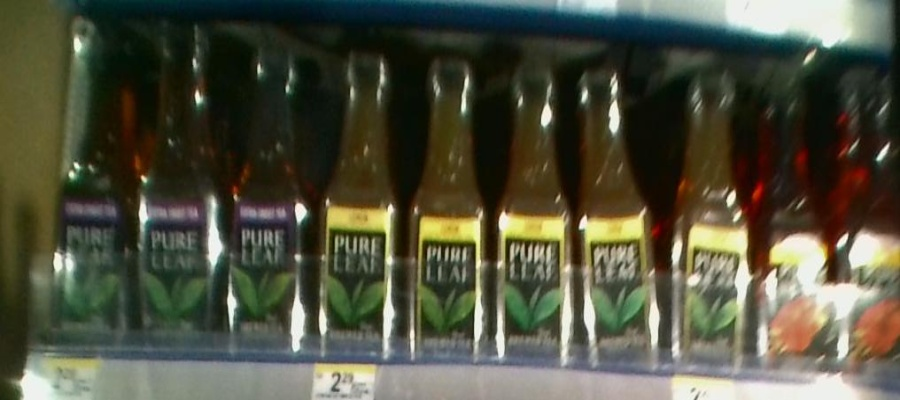bottle: (225, 30, 313, 355), (318, 26, 402, 358), (137, 21, 221, 351), (53, 21, 133, 347), (412, 44, 492, 365), (672, 57, 753, 368), (493, 61, 576, 363), (582, 72, 660, 368), (755, 99, 834, 374), (835, 78, 898, 371)
